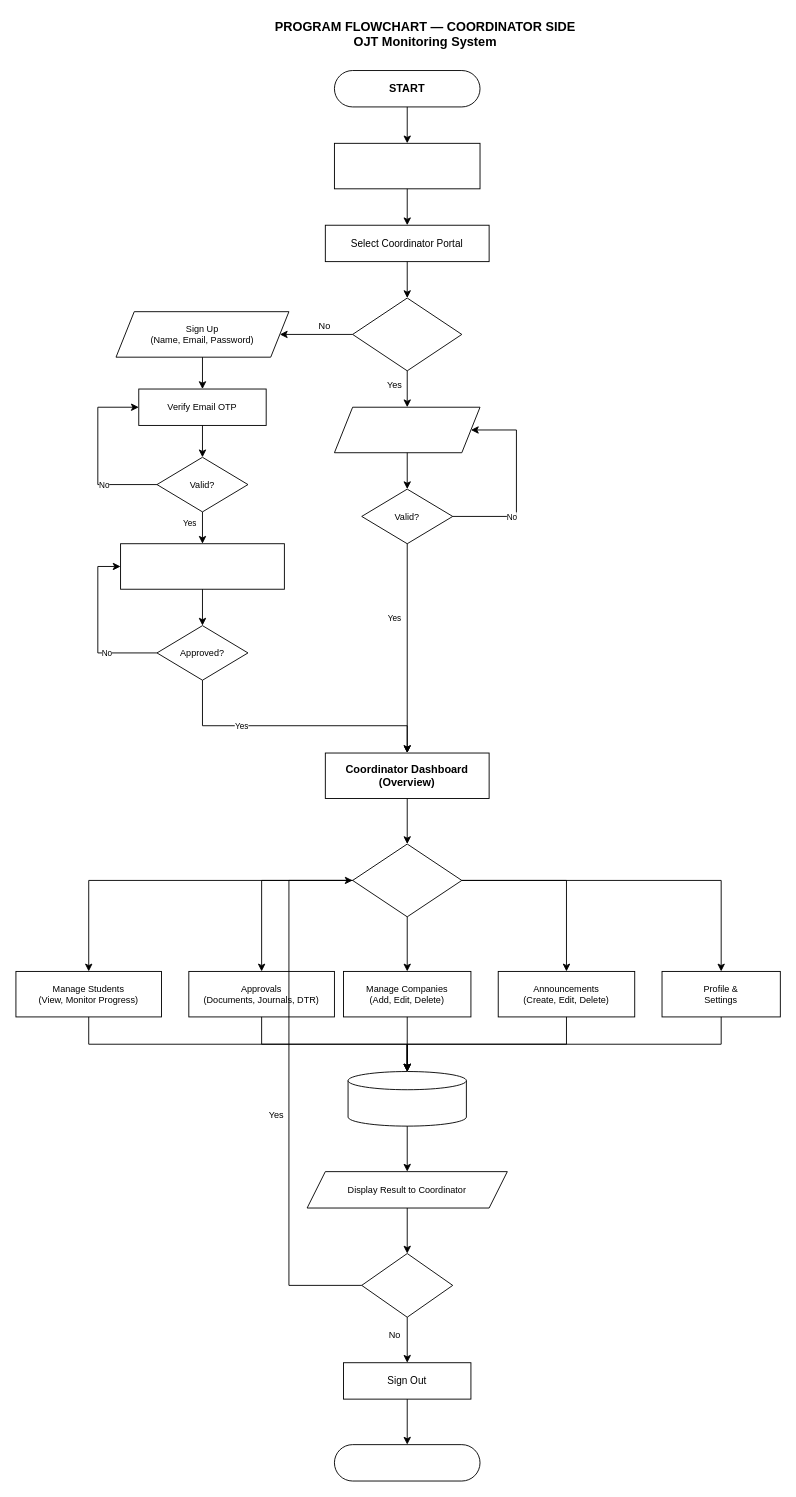
The diagram is 796 pixels wide and 1497 high, and some of its shapes have lost their labels. Here are the shapes that lost their labels. From the top down, the centre of each, then its label:
(x=407, y=165): Open Website (Landing Page)
(x=407, y=334): Has Account?
(x=407, y=429): Enter Email and Password
(x=202, y=566): Wait for Admin Approval (Pending Status)
(x=407, y=880): Select Module
(x=406, y=1098): Process Data (Supabase Database)
(x=407, y=1285): Continue?
(x=407, y=1462): END
